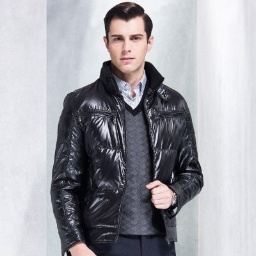face: (103, 2, 154, 74)
